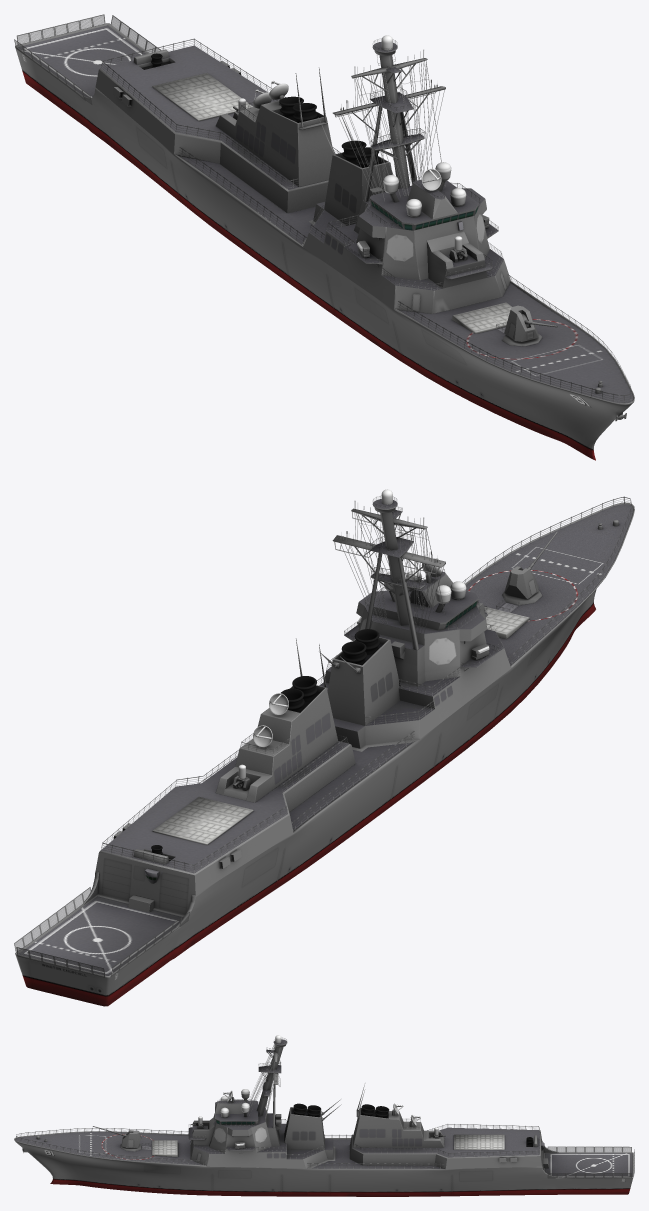
File: ship.glb
The picture shows the model from 3 angles, top to bottom: view 1: azimuth 30°, elevation 25°; view 2: azimuth 150°, elevation 25°; view 3: azimuth 270°, elevation 25°; orthographic projection. The views are drawn at different scales.
Parts seen in each view (by area): view 1: Ship; view 2: Ship; view 3: Ship.
Part boxes in pixels (x1=…): Ship: x1=14, y1=14, x2=634, y2=460; Ship: x1=14, y1=489, x2=634, y2=1006; Ship: x1=14, y1=1035, x2=634, y2=1196.
Size of the model in its own units: 21.07 by 41.07 by 156.
5 materials, 5 textured.
